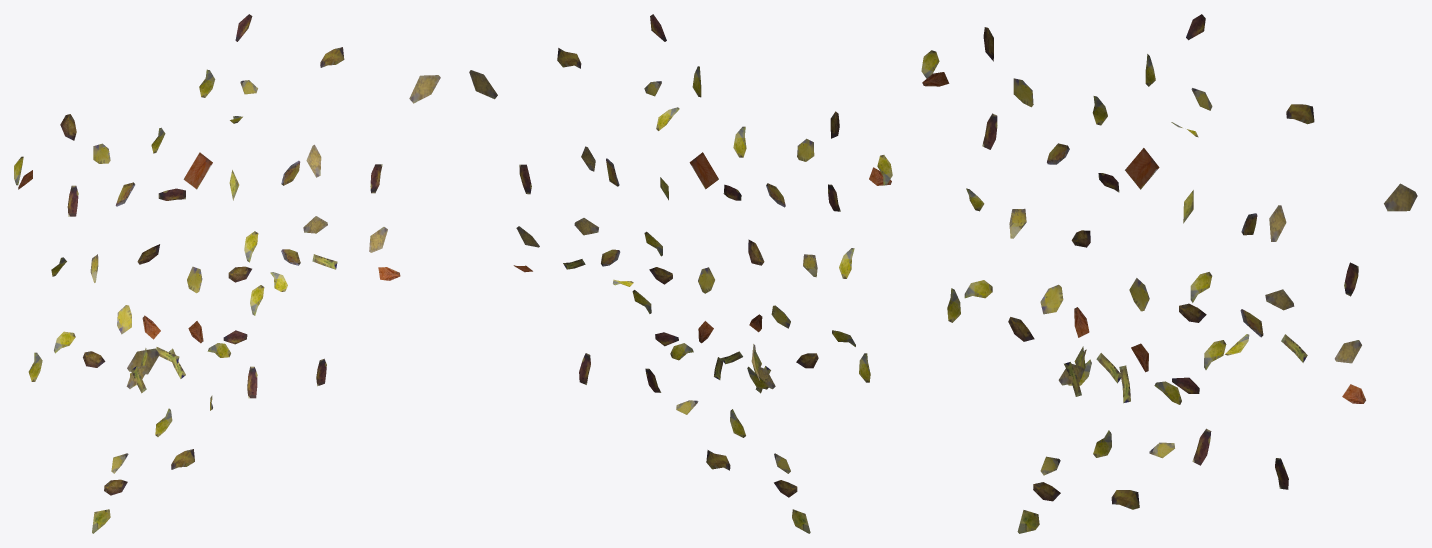
Rendered from hd_dec_UNI_008_LeavesAutumnDark_Circle_2m.glb.
3 views of the same model, side by side, from view 1: azimuth 30°, elevation 25°; view 2: azimuth 150°, elevation 25°; view 3: azimuth 330°, elevation 25° (orthographic). The views are drawn at different scales.
Parts seen in each view (by area): view 1: set_0_group_0; view 2: set_0_group_0; view 3: set_0_group_0.
Part boxes in pixels (x1,y1,x2,y2): set_0_group_0: (14,14,440,533); set_0_group_0: (469,14,892,533); set_0_group_0: (921,14,1417,533).
Size of the model in its own units: 3.61 by 3.91 by 0.2337.
Materials: 1 (1 with a texture image).
